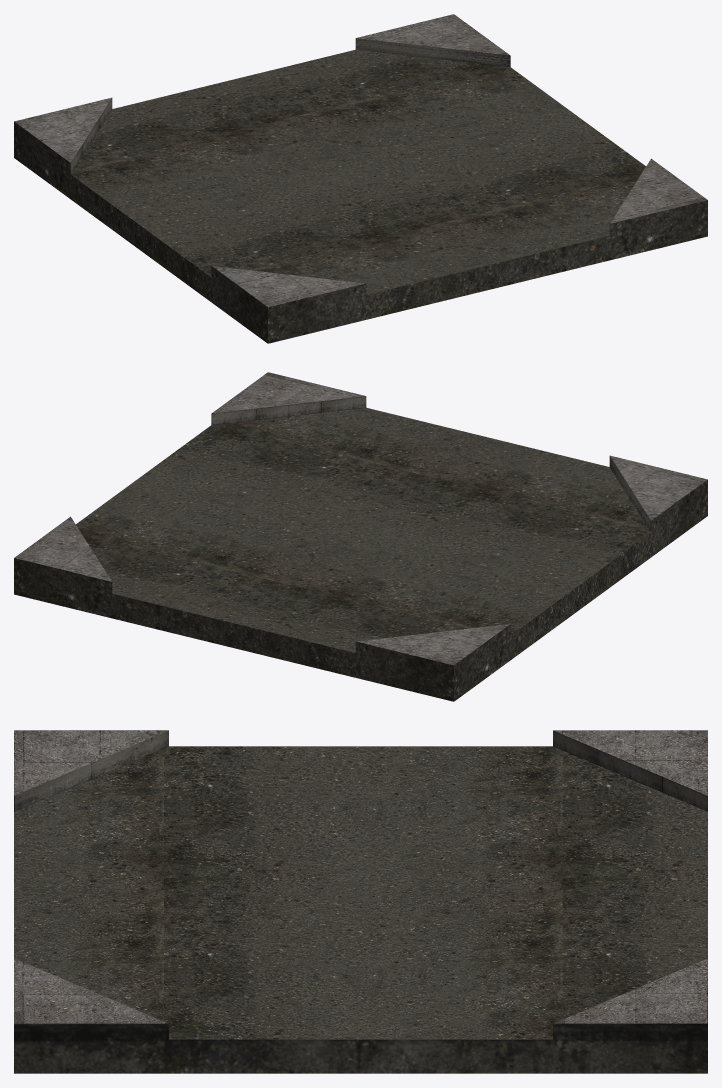
The model's file is RoadIntersection.fbx.
The picture shows the model from 3 angles, top to bottom: view 1: azimuth 30°, elevation 25°; view 2: azimuth 150°, elevation 25°; view 3: azimuth 270°, elevation 25°; orthographic projection. The views are drawn at different scales.
Visible parts, largest first — view 1: MiddleRoad; view 2: MiddleRoad; view 3: MiddleRoad.
Part boxes in pixels (bbox=[...]): MiddleRoad: bbox=[14, 14, 707, 343]; MiddleRoad: bbox=[14, 372, 707, 701]; MiddleRoad: bbox=[14, 730, 707, 1073].
Size of the model in its own units: 475 by 37.59 by 475.
2 materials, 2 textured.
